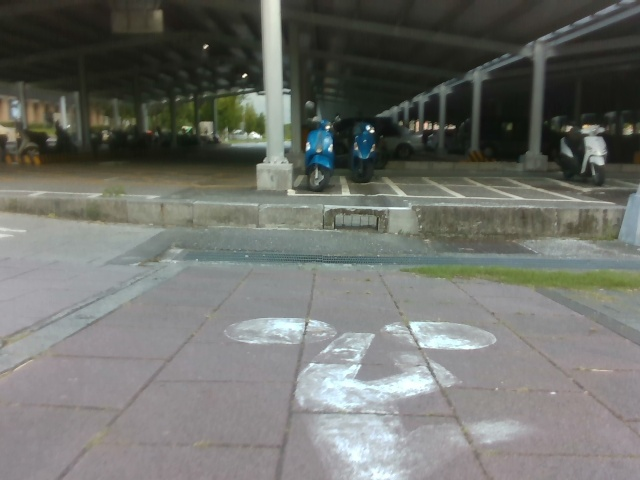grass: (40, 139, 264, 184), (94, 96, 264, 145), (434, 268, 639, 298)
road: (0, 227, 639, 479)
sidewalk: (0, 161, 556, 356), (510, 288, 639, 340), (392, 234, 625, 256)
